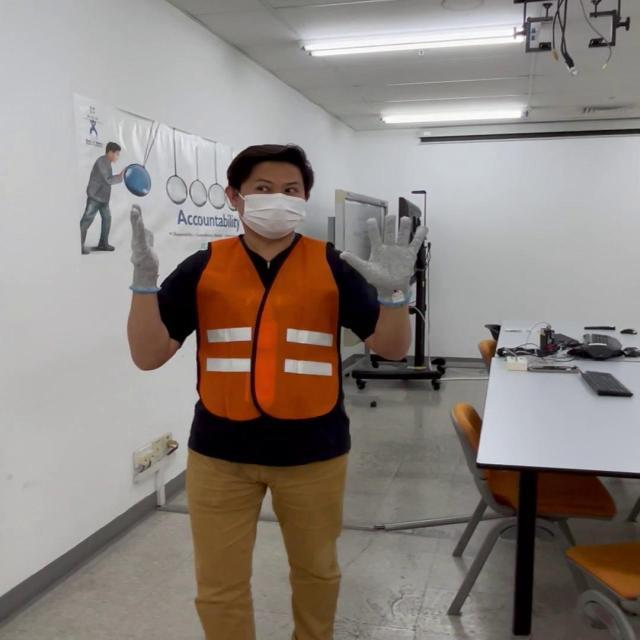gloved_hand: (337, 214, 420, 302), (126, 204, 166, 289)
